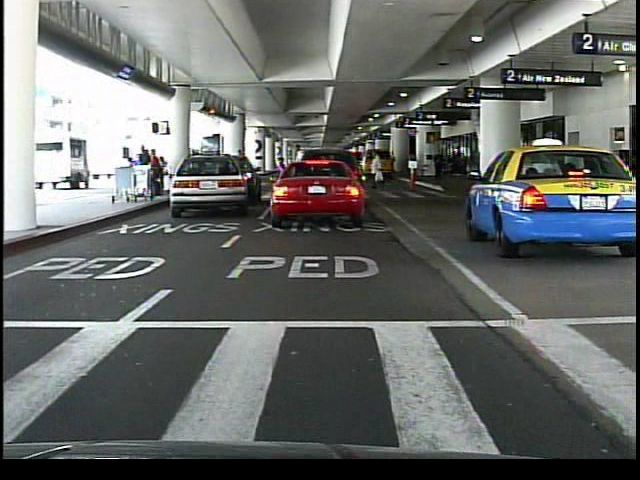person: (233, 146, 251, 200), (271, 157, 288, 205), (291, 149, 306, 203), (142, 147, 157, 198), (370, 150, 385, 189), (433, 151, 447, 186)
